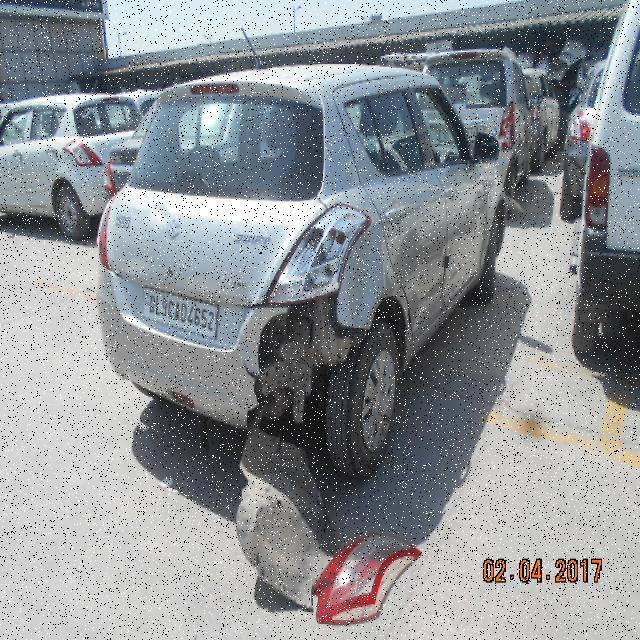rear-bumper-dent: (106, 278, 354, 429)
